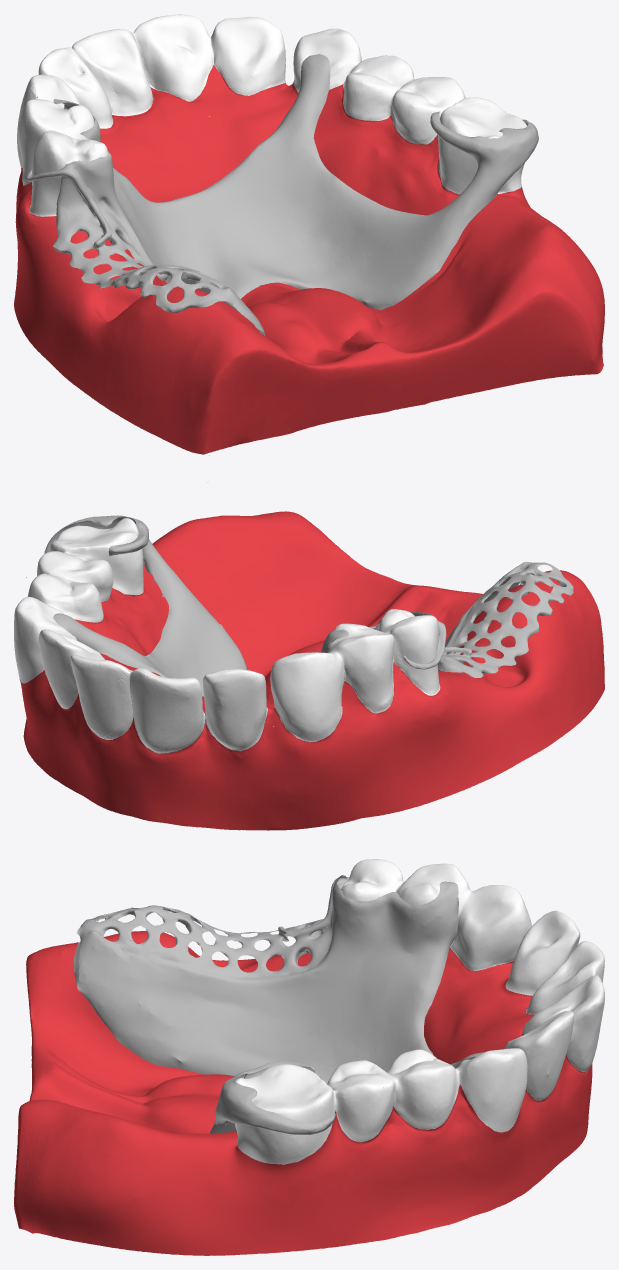
File: 1756433218929-04_Kennedy classification II (Upper arch)-draco.glb
The picture shows the model from 3 angles, top to bottom: view 1: azimuth 30°, elevation 25°; view 2: azimuth 150°, elevation 25°; view 3: azimuth 270°, elevation 25°; orthographic projection. The views are drawn at different scales.
Parts seen in each view (by area): view 1: 04_teeth, 04_cast; view 2: 04_teeth, 04_cast; view 3: 04_teeth, 04_cast.
Part boxes in pixels (x1,y1,x2,y2): 04_teeth: (14, 14, 604, 455); 04_cast: (26, 54, 538, 335); 04_teeth: (14, 511, 604, 830); 04_cast: (26, 515, 573, 696); 04_teeth: (14, 859, 604, 1255); 04_cast: (73, 875, 483, 1134).
Size of the model in its own units: 42.46 by 19.33 by 44.97.
